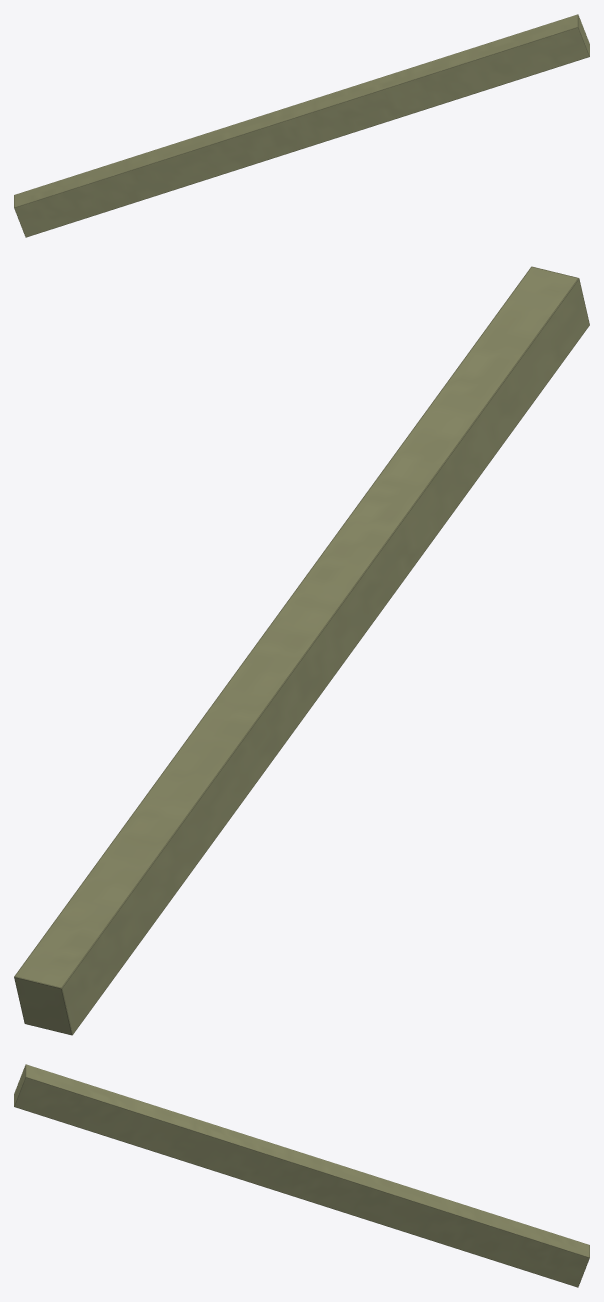
3 renders of one model, top to bottom at view 1: azimuth 90°, elevation 25°; view 2: azimuth 150°, elevation 25°; view 3: azimuth 270°, elevation 25°, orthographic. The views are drawn at different scales.
Parts seen in each view (by area): view 1: part-a; view 2: part-a; view 3: part-a.
Boxes of the visible parts, x1,y1,x2,y2 form: part-a: (14,14,589,237); part-a: (14,266,589,1035); part-a: (14,1064,589,1287).
Bounding box in the file's own units: 0.0908 × 0.6997 × 1.73.
